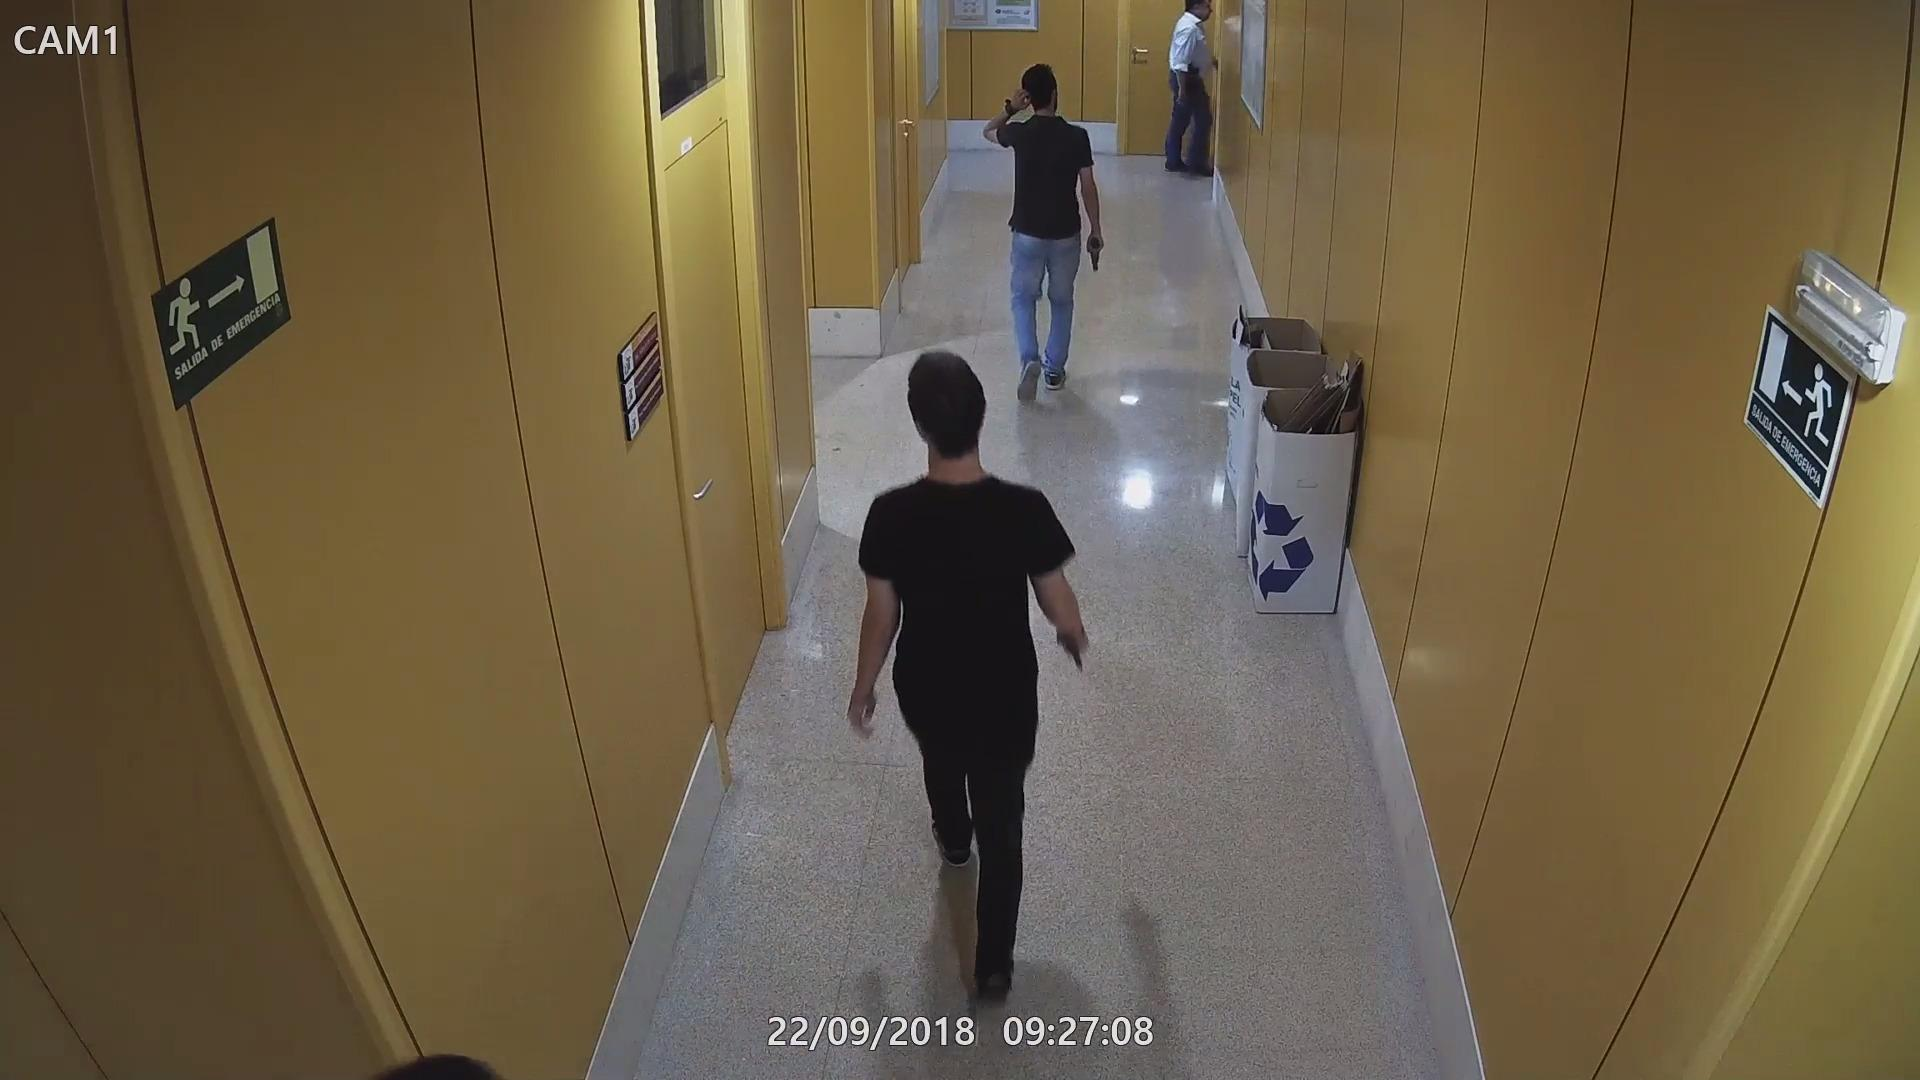Handgun: (1052, 621, 1091, 671), (1081, 225, 1108, 273)
